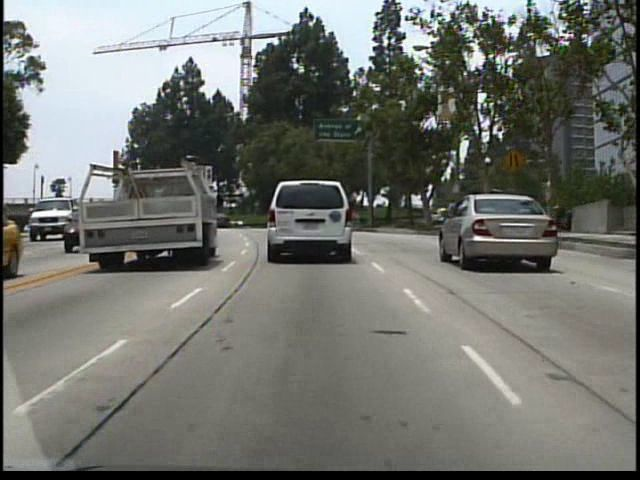person: (444, 193, 461, 233)
